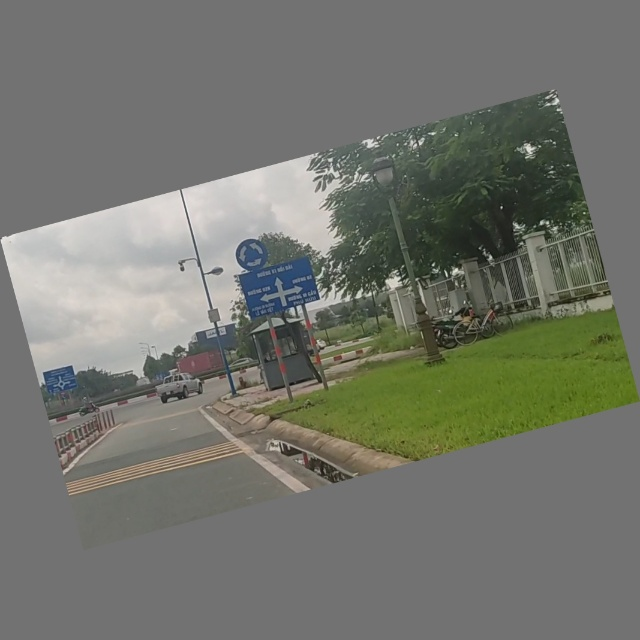R.303: (231, 235, 271, 274)
